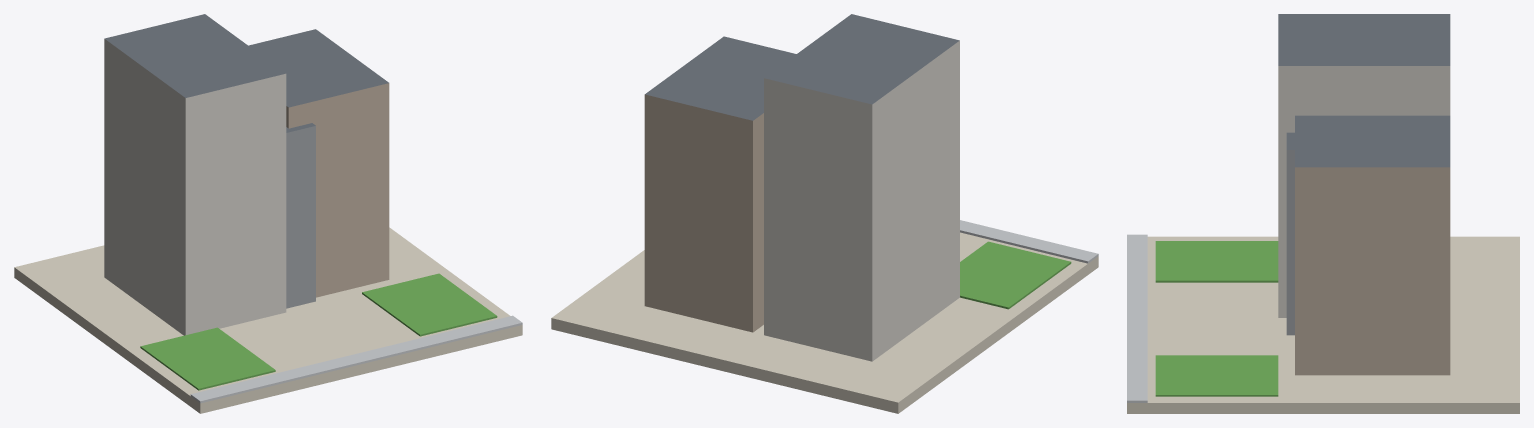
3 views of the same model, side by side, from view 1: azimuth 30°, elevation 25°; view 2: azimuth 150°, elevation 25°; view 3: azimuth 270°, elevation 25° (orthographic). The views are drawn at different scales.
Visible parts, largest first — view 1: b06_v2_lod2; view 2: b06_v2_lod2; view 3: b06_v2_lod2.
Part boxes in pixels (x1=…): b06_v2_lod2: x1=14, y1=14, x2=522, y2=413; b06_v2_lod2: x1=551, y1=14, x2=1098, y2=413; b06_v2_lod2: x1=1127, y1=14, x2=1519, y2=413.
Bounding box in the file's own units: 0.96 × 0.71 × 0.96.
